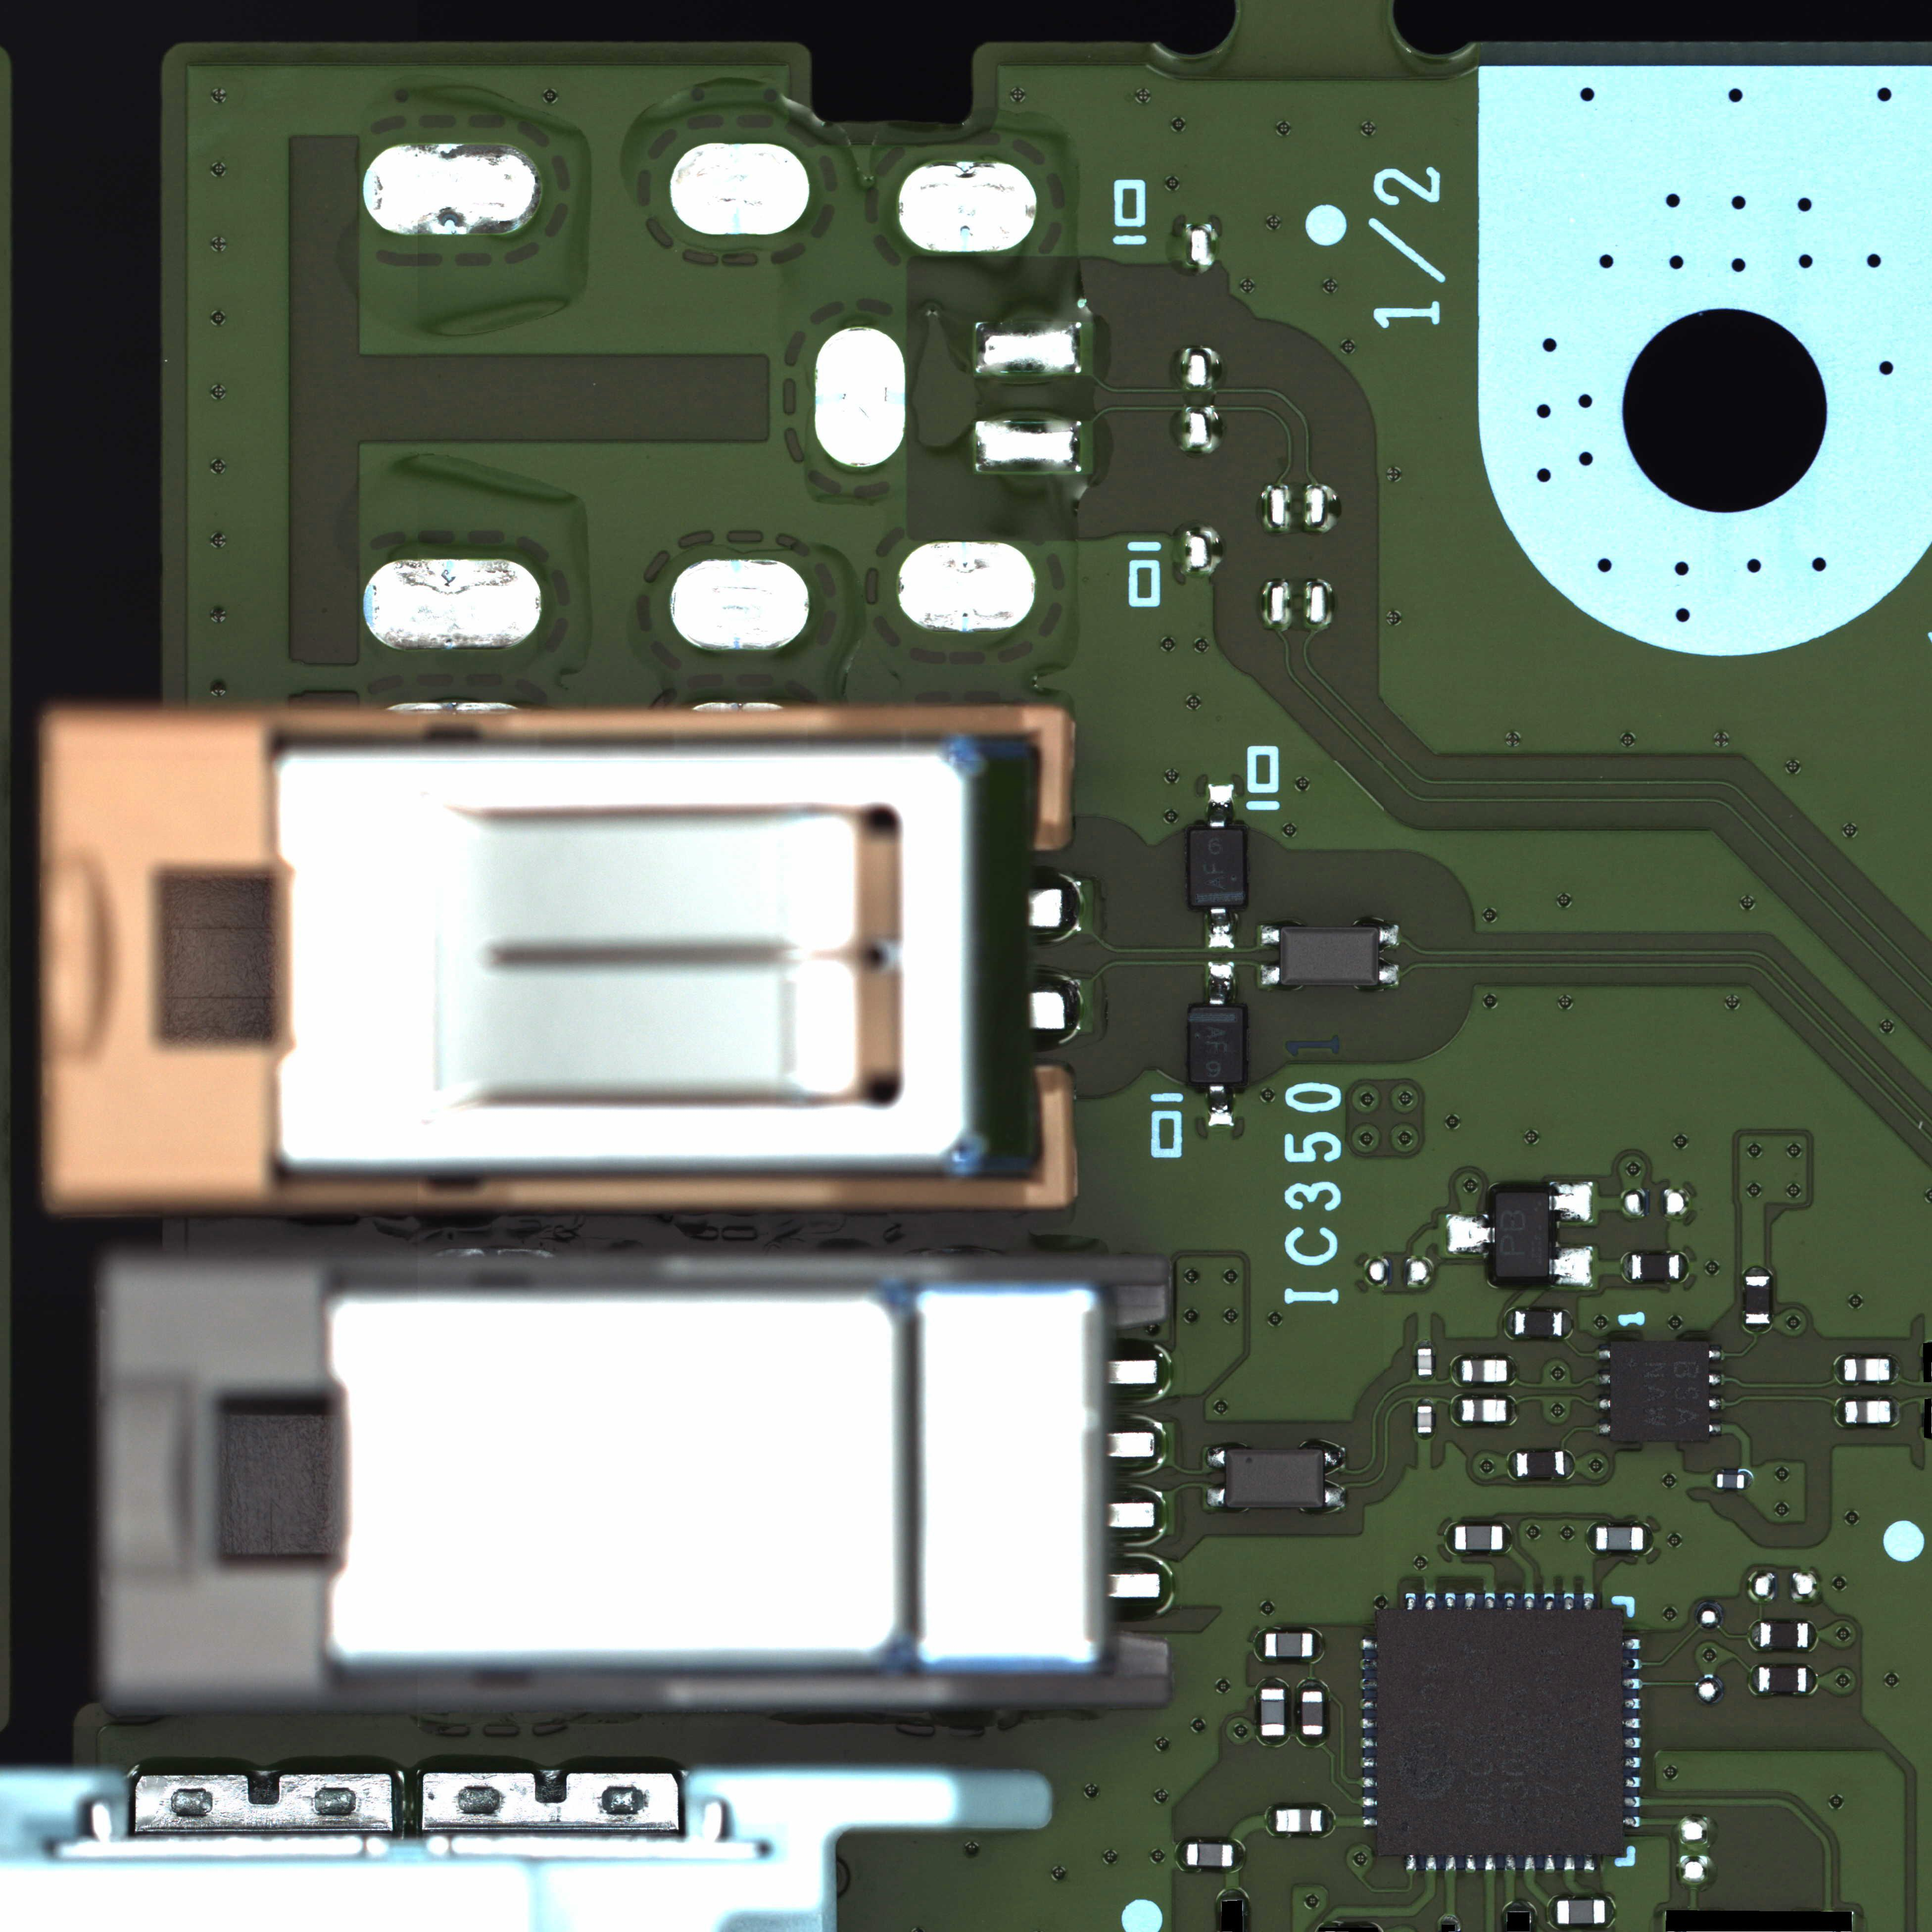Package: (1377, 1610, 1621, 1854), (1611, 1342, 1708, 1442), (1281, 927, 1378, 985), (1226, 1450, 1323, 1508), (1496, 1190, 1549, 1279), (1190, 1006, 1244, 1085), (1191, 829, 1245, 907), (1516, 1451, 1565, 1477), (1515, 1310, 1562, 1337), (1745, 1276, 1771, 1324), (1758, 1667, 1806, 1692), (1760, 1623, 1808, 1648), (1557, 1899, 1605, 1925), (1455, 1525, 1502, 1550), (1265, 1633, 1313, 1658), (1596, 1526, 1643, 1551), (1260, 1689, 1285, 1737), (1632, 1255, 1679, 1279), (1186, 1843, 1233, 1867), (1276, 1809, 1322, 1833), (1844, 1358, 1890, 1381), (1461, 1399, 1507, 1422), (1845, 1401, 1890, 1424), (1462, 1359, 1507, 1382), (1301, 1691, 1323, 1735), (1717, 1474, 1744, 1489), (1417, 1406, 1432, 1433), (1417, 1349, 1432, 1375)
Solder: (1446, 1214, 1496, 1255), (1549, 1181, 1594, 1223), (1549, 1246, 1593, 1287), (1205, 784, 1235, 828), (1206, 1085, 1236, 1127), (1207, 962, 1235, 1005), (1207, 907, 1235, 950), (1323, 1487, 1347, 1509), (1323, 1447, 1347, 1470), (1379, 923, 1400, 947), (1205, 1447, 1226, 1469), (1379, 964, 1400, 987), (1259, 964, 1280, 986), (1259, 925, 1281, 946), (1207, 1487, 1226, 1508), (1748, 1619, 1760, 1651), (1507, 1394, 1519, 1427), (1503, 1307, 1514, 1340), (1504, 1900, 1537, 1912), (1218, 1887, 1249, 1899), (1890, 1397, 1902, 1428), (1450, 1394, 1461, 1426), (1299, 1679, 1328, 1690), (1644, 1524, 1655, 1555), (1807, 1666, 1818, 1695), (1451, 1356, 1462, 1386), (1562, 1310, 1574, 1338), (1743, 1264, 1771, 1276), (1808, 1620, 1818, 1652), (1622, 1736, 1643, 1750), (1622, 1754, 1642, 1770), (1565, 1450, 1576, 1480), (1297, 1736, 1327, 1746), (1586, 1522, 1595, 1554), (1507, 1357, 1518, 1385), (1743, 1324, 1772, 1334), (1680, 1252, 1689, 1282), (1503, 1524, 1513, 1554), (1259, 1678, 1287, 1688), (1547, 1898, 1556, 1928), (1605, 1899, 1616, 1926), (1622, 1815, 1641, 1829), (1622, 1253, 1631, 1282), (1622, 1775, 1642, 1789), (1622, 1637, 1642, 1651), (1890, 1356, 1901, 1383), (1622, 1795, 1642, 1809), (1234, 1843, 1245, 1868), (1835, 1396, 1844, 1426), (1313, 1633, 1324, 1658), (1622, 1717, 1642, 1730), (1507, 1450, 1516, 1480), (1255, 1632, 1264, 1658), (1622, 1657, 1641, 1671), (1621, 1677, 1641, 1690), (1323, 1809, 1333, 1833), (1504, 1854, 1517, 1873), (1260, 1737, 1286, 1746), (1835, 1356, 1844, 1385), (1622, 1697, 1641, 1710), (1563, 1854, 1577, 1872), (1544, 1854, 1557, 1872), (1464, 1854, 1478, 1872), (1424, 1854, 1438, 1872), (1405, 1854, 1418, 1872), (1749, 1665, 1758, 1693), (1266, 1808, 1275, 1833), (1446, 1525, 1454, 1552), (1484, 1854, 1497, 1872), (1444, 1854, 1457, 1872), (1708, 1397, 1723, 1412), (1524, 1854, 1537, 1872), (1424, 1592, 1437, 1610), (1543, 1592, 1555, 1610), (1503, 1592, 1516, 1610), (1404, 1593, 1417, 1610), (1464, 1593, 1476, 1610), (1444, 1593, 1456, 1610), (1583, 1592, 1595, 1609), (1177, 1841, 1186, 1867), (1709, 1373, 1723, 1388), (1524, 1593, 1536, 1610), (1484, 1593, 1496, 1610), (1563, 1593, 1575, 1610), (1708, 1421, 1724, 1435), (1597, 1422, 1610, 1436), (1597, 1372, 1610, 1386), (1584, 1854, 1595, 1871), (1361, 1816, 1377, 1828), (1362, 1777, 1377, 1789), (1362, 1757, 1377, 1769), (1362, 1658, 1377, 1671), (1362, 1738, 1377, 1749), (1362, 1718, 1377, 1730), (1361, 1639, 1377, 1651), (1361, 1678, 1377, 1690), (1361, 1698, 1377, 1710), (1362, 1796, 1377, 1808), (1598, 1348, 1611, 1361), (1745, 1471, 1754, 1490), (1598, 1397, 1610, 1411), (1441, 1915, 1459, 1925), (1709, 1468, 1717, 1491), (1709, 1349, 1723, 1361), (1418, 1339, 1433, 1348), (1417, 1398, 1432, 1406), (1417, 1433, 1433, 1440), (1417, 1375, 1432, 1379)
